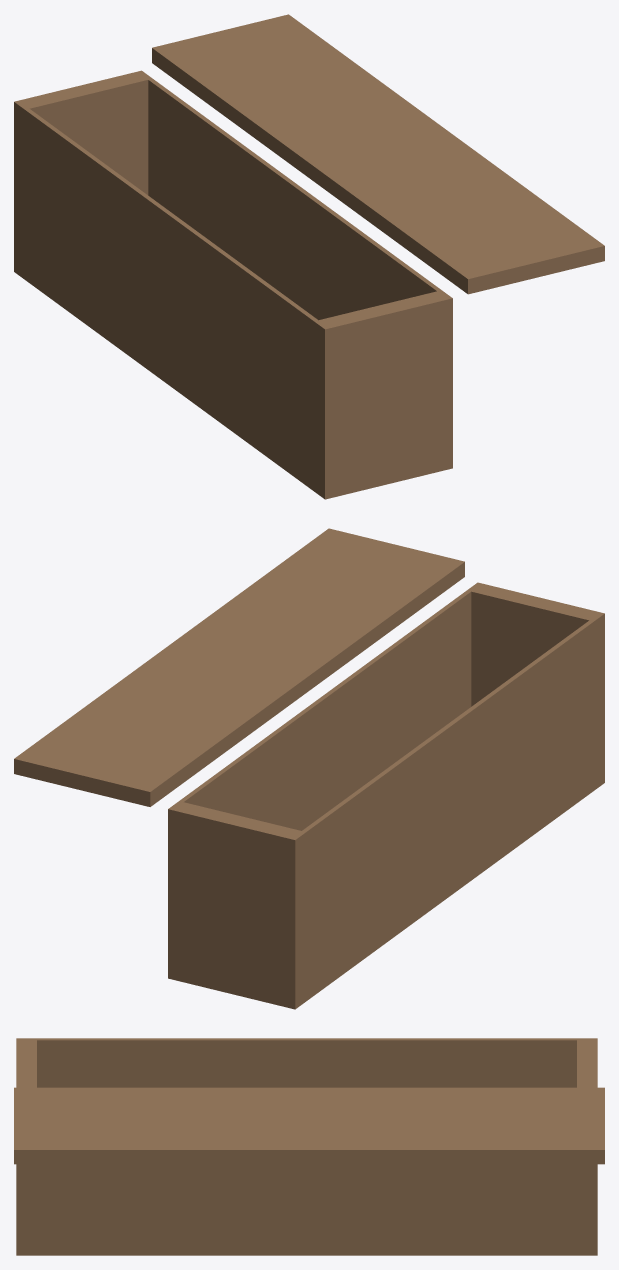
The picture shows the model from 3 angles, top to bottom: view 1: azimuth 30°, elevation 25°; view 2: azimuth 150°, elevation 25°; view 3: azimuth 270°, elevation 25°; orthographic projection. The views are drawn at different scales.
Visible parts, largest first — view 1: Box, Box-cover; view 2: Box, Box-cover; view 3: Box, Box-cover.
Boxes of the visible parts, <box> form: Box: <box>14,70,452,499</box>; Box-cover: <box>152,14,604,294</box>; Box: <box>168,582,604,1009</box>; Box-cover: <box>14,528,464,806</box>; Box: <box>16,1038,597,1255</box>; Box-cover: <box>14,1087,604,1164</box>.
Bounding box in the file's own units: 7.59 × 4.86 × 14.92.
